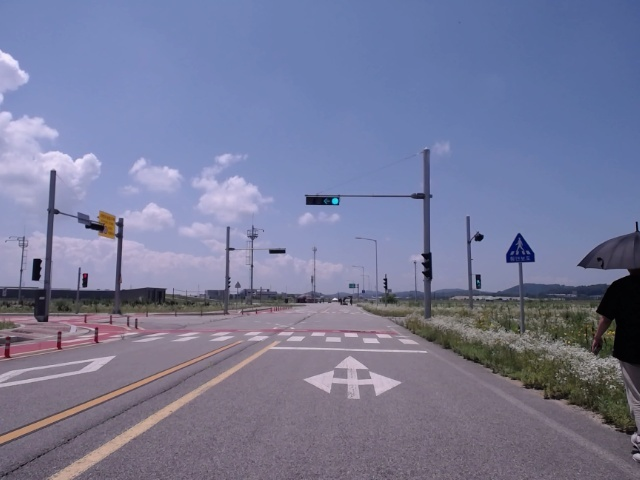all_green_4: (304, 194, 341, 205)
